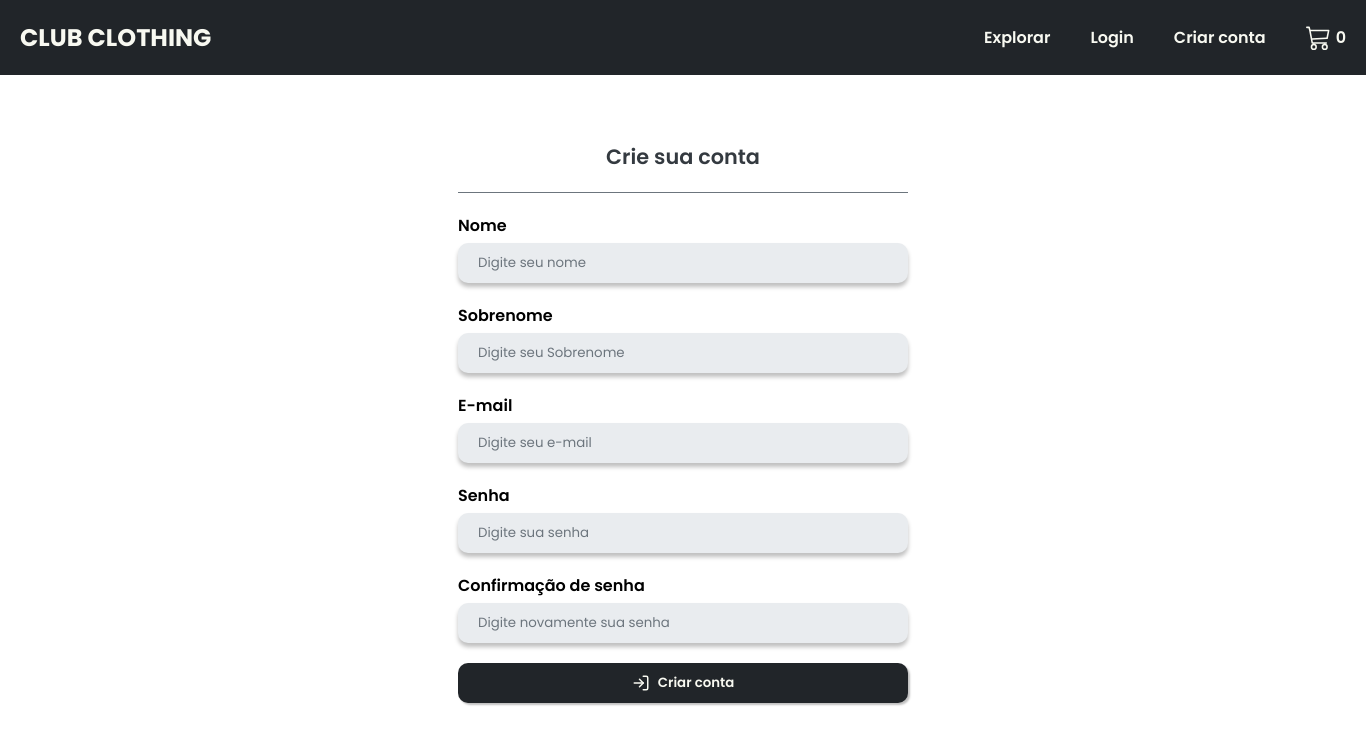
Test case: Sign Up › should show error when password has less then 6 characters
Type "123" into the password field with placeholder "Digite sua senha".
click(683, 532); type("123")  # box [458, 512, 908, 552]
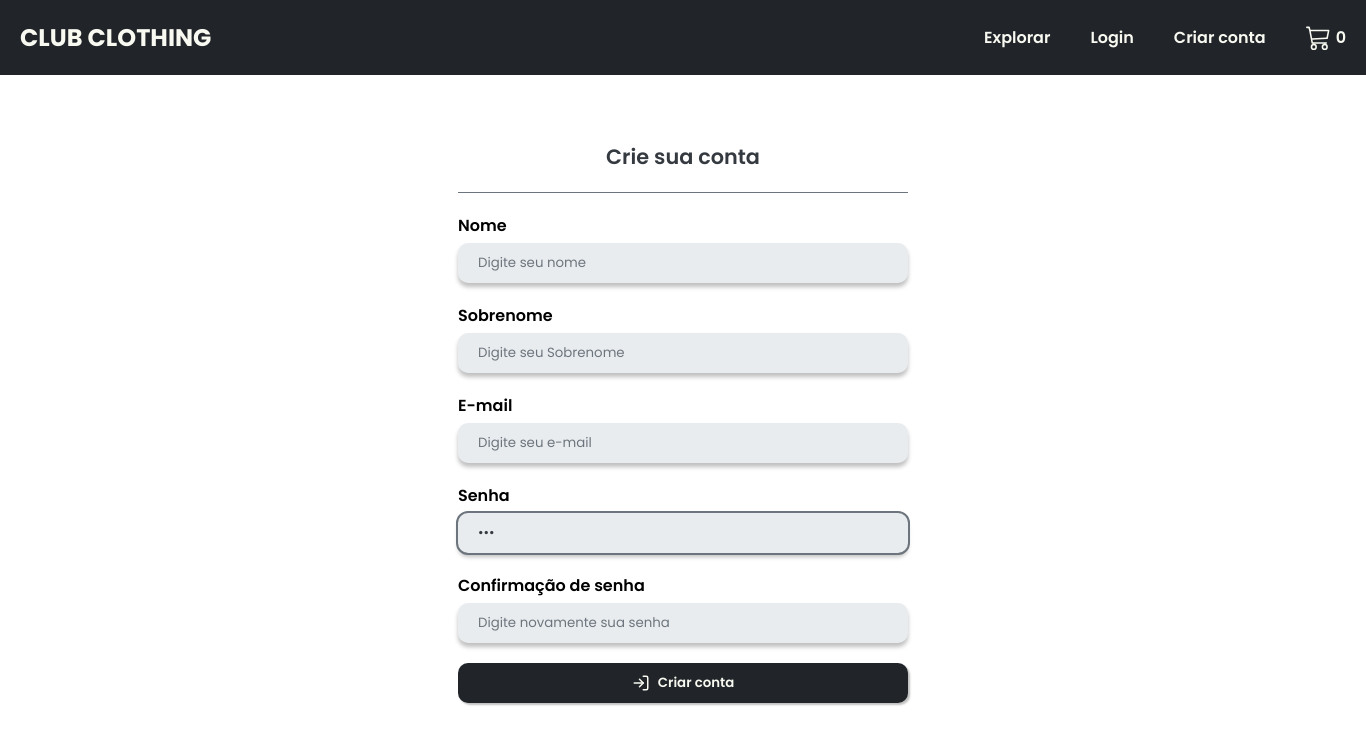
Click the button "Criar conta".
click(683, 682)  # box [458, 662, 908, 702]
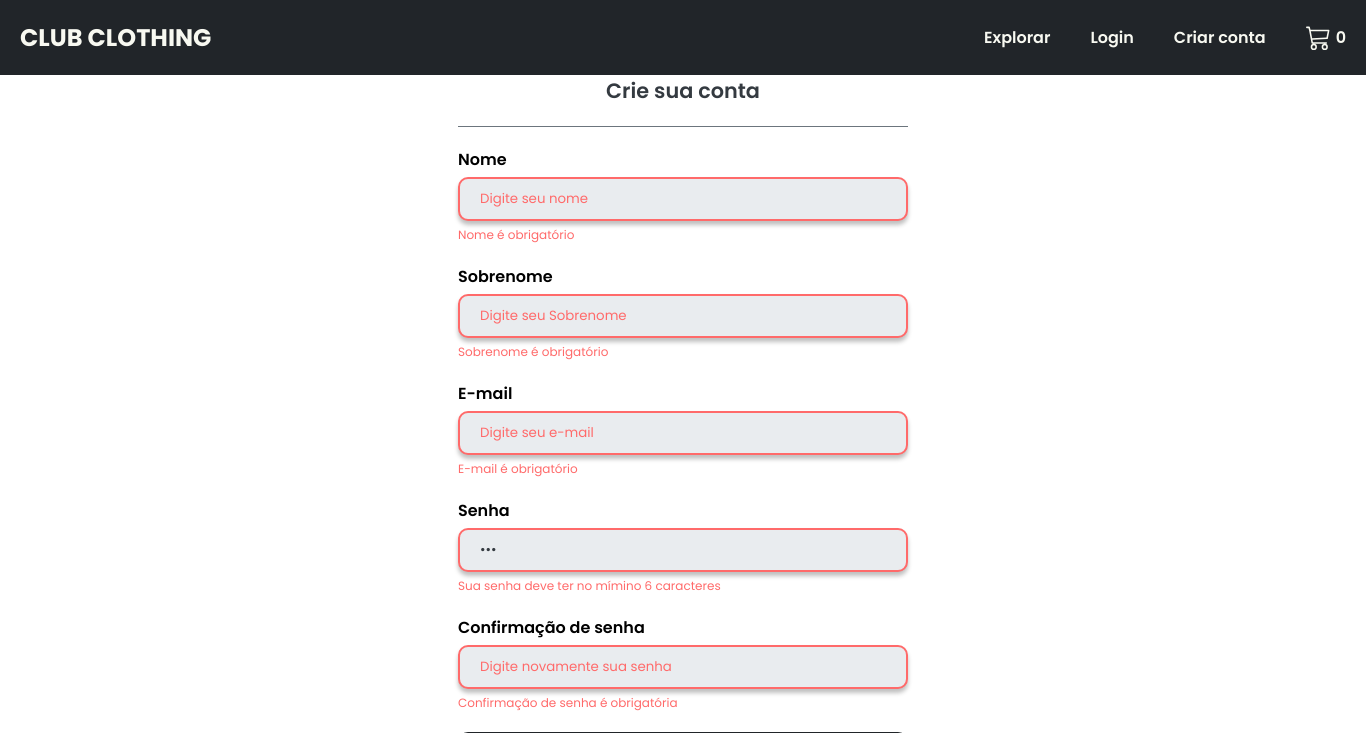
Expected: the text "Sua senha deve ter no mímino 6 caracteres" is shown, [458, 577, 721, 594]
